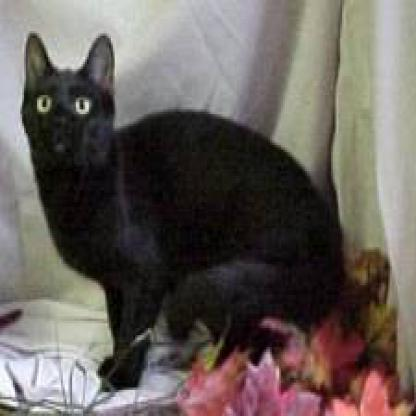cat: (21, 32, 376, 364)
